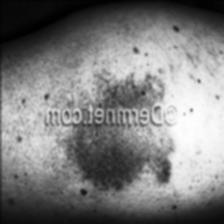Toxin: (27, 130, 182, 198), (42, 60, 188, 106)
